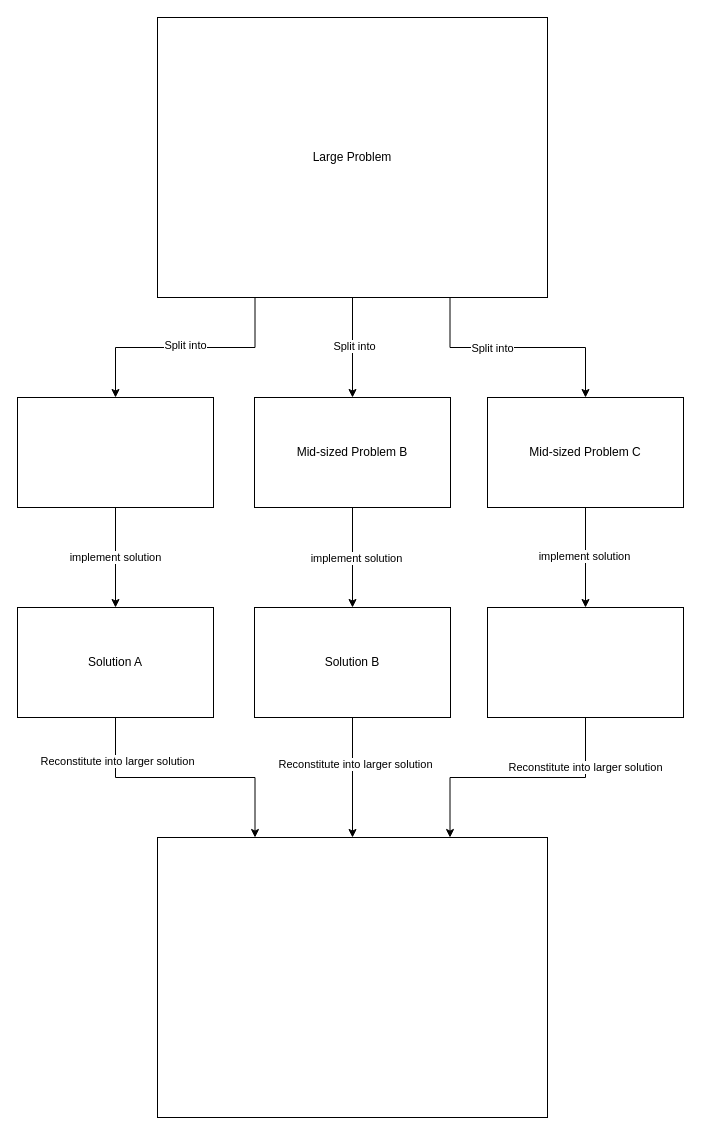
The diagram is 701 pixels wide and 1135 high, and some of its shapes have lost their labels. The box of each missing label's shape, as (x1, y1, x2, y2) in pixels:
Final Solution: (156, 836, 548, 1118)
Mid-sized Problem A: (16, 396, 214, 508)
Solution C: (486, 606, 684, 718)
